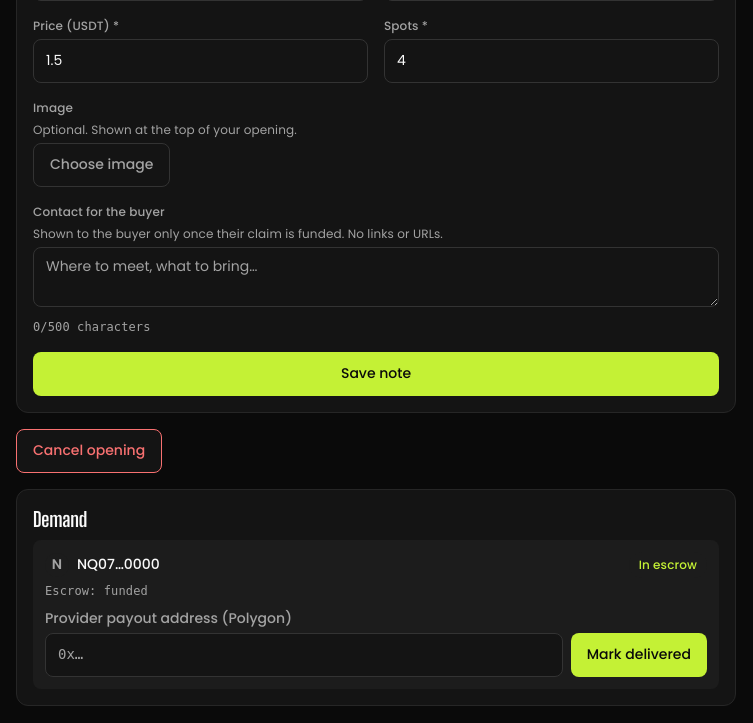
Scenario: SellDetail demand section (P2) › lists the funded claim with a Mark delivered form; delivering updates the row
The image size is (753, 723).
(page scrolled)
Expected: the heading "Demand" is shown, [33,507,87,531]
Expected: the text "NQ07…0000" is shown, [77,554,160,574]
Type "0xaaaaaaaaaaaaaaaaaaaaaaaaaaaaaaaaaaaaaaaa" into the field labelled "Provider payout address (Polygon)" at [304, 655], box [45,633,563,677]
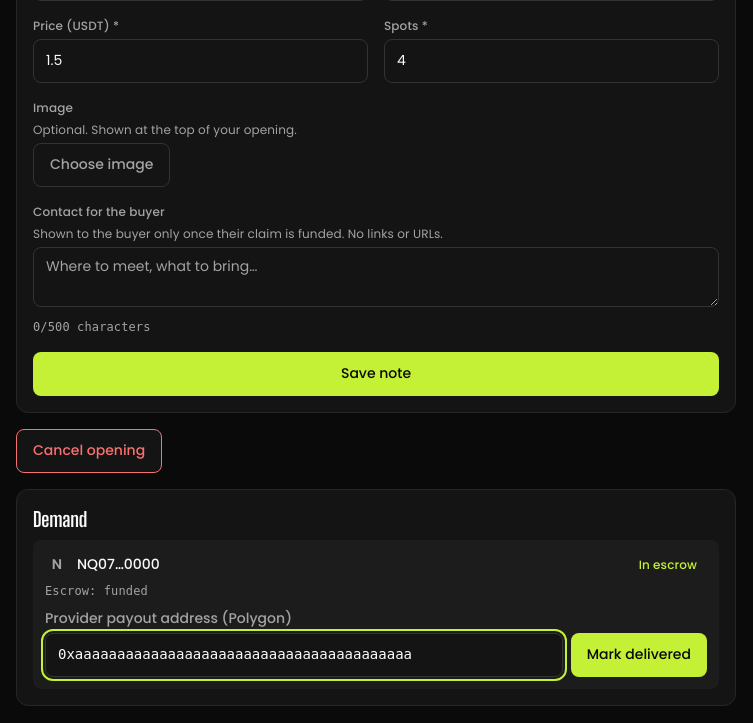
Click the button "Mark delivered" at [639, 655], box [571,633,707,677]
(page scrolled)
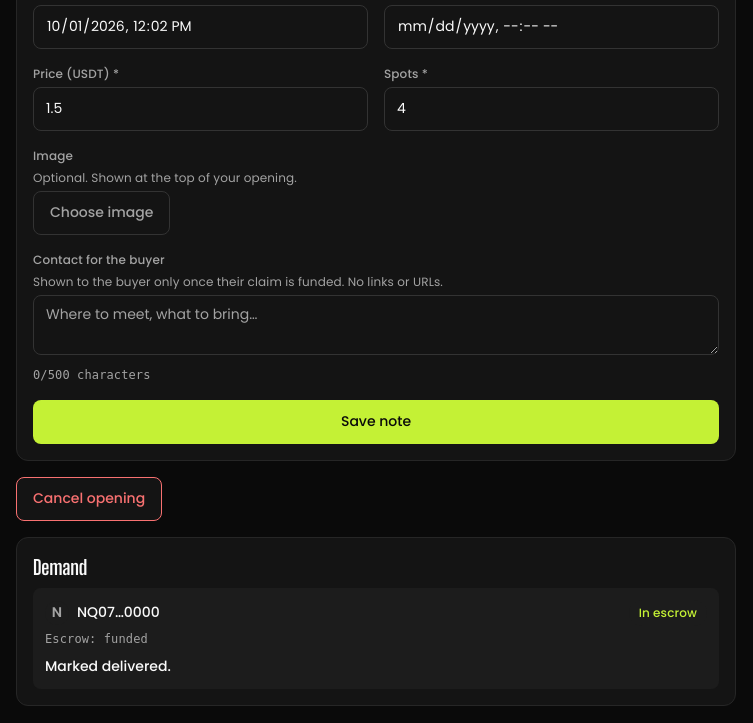
Now the text "Marked delivered." is shown, box [45,656,171,676]
